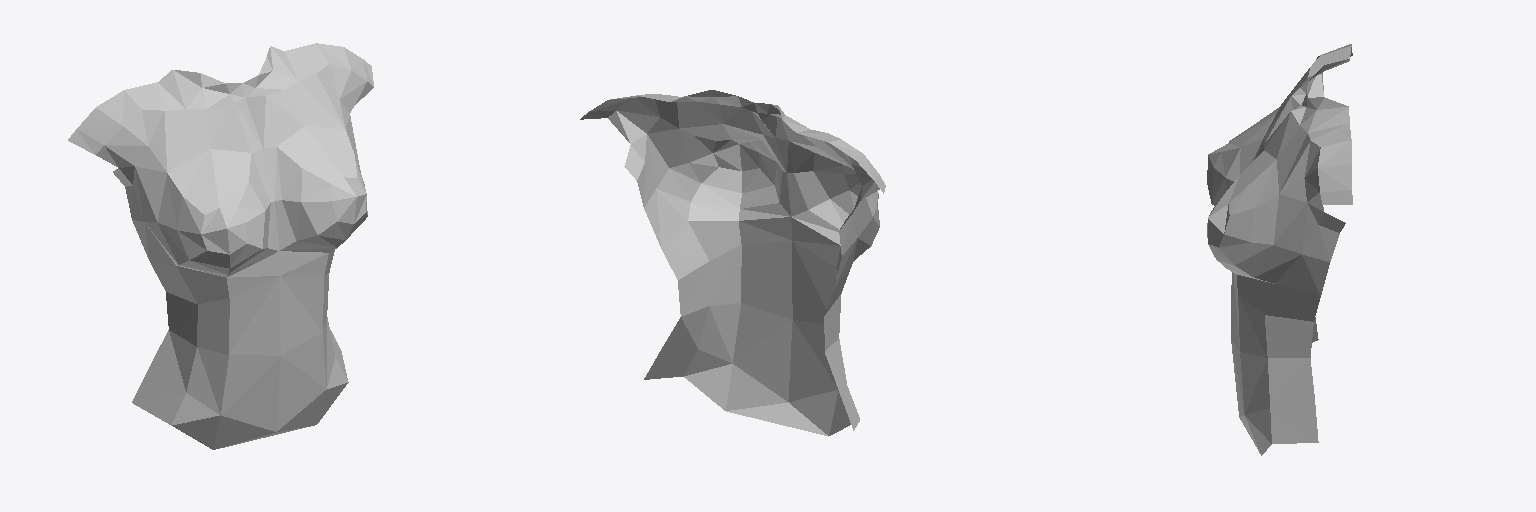
File: Template.obj
The picture shows the model from 3 angles: view 1: azimuth 30°, elevation 25°; view 2: azimuth 150°, elevation 25°; view 3: azimuth 270°, elevation 25°; orthographic projection.
Visible parts, largest first — view 1: clean_scaled_source; view 2: clean_scaled_source; view 3: clean_scaled_source.
Boxes of the visible parts, x1=… form: clean_scaled_source: x1=68, y1=43, x2=373, y2=449; clean_scaled_source: x1=580, y1=90, x2=885, y2=436; clean_scaled_source: x1=1207, y1=44, x2=1352, y2=455.
Size of the model in its own units: 0.3776 by 0.4141 by 0.1564.